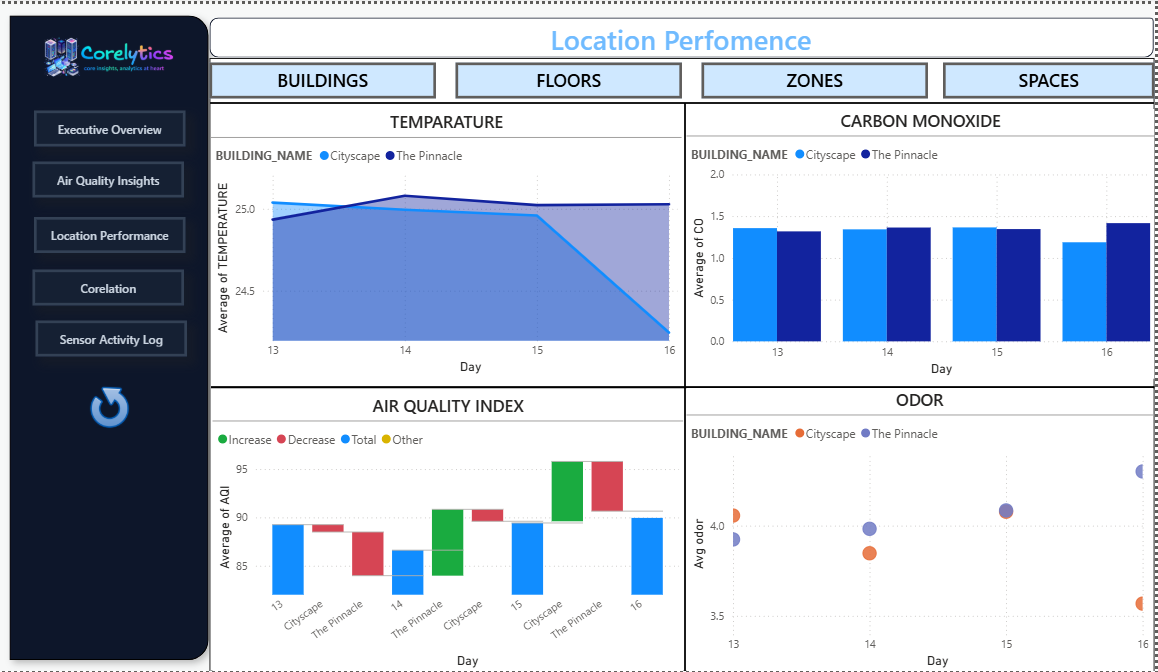

Layout of this report page (visuals, bound fields, positions):
{"tool":"powerbi","page":{"name":"location perfomence","canvas":[1300,750],"ordinal":2},"visuals":[{"type":"shape","box":[0,0,249.6,750.6],"z":0},{"type":"image","box":[0,0,249.6,119.8],"z":1000},{"type":"actionButton","box":[40.5,119.8,170.4,40.5],"z":2000},{"type":"actionButton","box":[38.8,177.1,170.4,40.5],"z":3000},{"type":"actionButton","box":[40.5,239.5,170.4,40.5],"z":4000},{"type":"actionButton","box":[38.8,298.5,170.4,40.5],"z":5000},{"type":"actionButton","box":[42.2,355.9,170.4,40.5],"z":6000},{"type":"shape","box":[238.3,15,1061.7,45],"z":7000},{"type":"actionButton","box":[237.8,65.8,195.7,40.5],"z":8000},{"type":"shape","box":[237.8,60.7,1062.6,50.6],"z":9000},{"type":"actionButton","title":"BULIDINGS","box":[237.8,65.8,254.7,40.5],"z":10000},{"type":"actionButton","title":"FLOORS","box":[514.4,65.8,254.7,40.5],"z":11000},{"type":"actionButton","title":"SPACES","box":[1062.6,65.8,237.8,40.5],"z":12000},{"type":"actionButton","title":"ZONE","box":[791.1,65.8,254.7,40.5],"z":13000},{"type":"shape","box":[237.8,111.3,1062.6,639.3],"z":14000},{"type":"shape","box":[239.5,420,1060.9,21.9],"z":15000},{"type":"shape","box":[239.1,420,1060.9,21.9],"z":16000},{"type":"shape","box":[754,111.3,37.1,639.3],"z":17000},{"type":"areaChart","title":"TEMPARATURE","fields":{"Category":["FACT_SENSOR_READINGS.READING_TIMESTAMP.Variation.Date Hierarchy.Day"],"Y":["Avg(FACT_SENSOR_READINGS.TEMPERATURE)"],"Series":["DIM_BUILDING.BUILDING_NAME"]},"box":[239.5,119.8,529.6,300.2],"z":18000},{"type":"clusteredColumnChart","title":"CARBON MONOXIDE","fields":{"Category":["FACT_SENSOR_READINGS.READING_TIMESTAMP.Variation.Date Hierarchy.Day"],"Series":["DIM_BUILDING.BUILDING_NAME"],"Y":["Avg(FACT_SENSOR_READINGS.CO)"]},"box":[774.2,118.1,526.2,303.6],"z":19000},{"type":"waterfallChart","title":"AIR QUALITY INDEX","fields":{"Category":["FACT_SENSOR_READINGS.READING_TIMESTAMP.Variation.Date Hierarchy.Day"],"Y":["Avg(FACT_SENSOR_READINGS.AQI)"],"Breakdown":["DIM_BUILDING.BUILDING_NAME"]},"box":[241.2,438.5,529.6,312],"z":20000},{"type":"scatterChart","title":"ODOR","fields":{"X":["FACT_SENSOR_READINGS.READING_TIMESTAMP.Variation.Date Hierarchy.Day"],"Y":["FACT_SENSOR_READINGS.Avg odor"],"Series":["DIM_BUILDING.BUILDING_NAME"]},"box":[774.2,431.8,524.6,318.8],"z":21000}]}

Visuals, with their boxes on the page's 1300x750 design canvas (x1, y1, x2, y2). These are canvas units, not pixel positions in the 1158x672 screenshot, which may show the page scaled, cropped or inside an application window:
shape: Rect(0, 0, 250, 751)
image: Rect(0, 0, 250, 120)
actionButton: Rect(40, 120, 211, 160)
actionButton: Rect(39, 177, 209, 218)
actionButton: Rect(40, 240, 211, 280)
actionButton: Rect(39, 298, 209, 339)
actionButton: Rect(42, 356, 213, 396)
shape: Rect(238, 15, 1300, 60)
actionButton: Rect(238, 66, 434, 106)
shape: Rect(238, 61, 1300, 111)
"BULIDINGS" actionButton: Rect(238, 66, 492, 106)
"FLOORS" actionButton: Rect(514, 66, 769, 106)
"SPACES" actionButton: Rect(1063, 66, 1300, 106)
"ZONE" actionButton: Rect(791, 66, 1046, 106)
shape: Rect(238, 111, 1300, 751)
shape: Rect(240, 420, 1300, 442)
shape: Rect(239, 420, 1300, 442)
shape: Rect(754, 111, 791, 751)
"TEMPARATURE" areaChart: Rect(240, 120, 769, 420)
"CARBON MONOXIDE" clusteredColumnChart: Rect(774, 118, 1300, 422)
"AIR QUALITY INDEX" waterfallChart: Rect(241, 438, 771, 750)
"ODOR" scatterChart: Rect(774, 432, 1299, 751)
